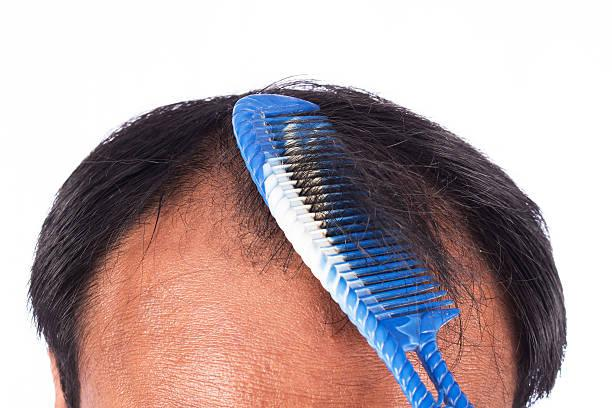dry hair: (344, 126, 398, 195)
low hair density: (418, 173, 497, 305), (199, 150, 251, 268)
